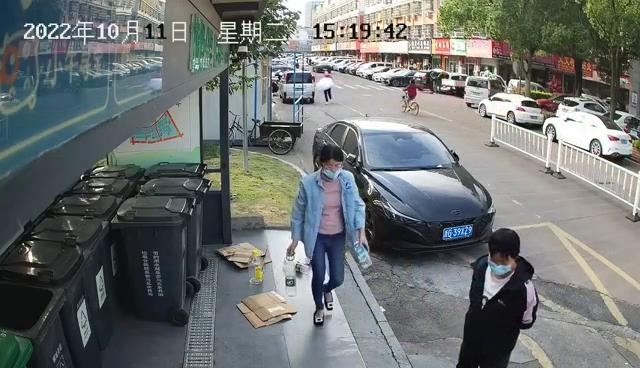person: (453, 226, 540, 368)
suliaozhipin: (283, 253, 299, 297), (248, 247, 265, 285)
worker: (286, 140, 370, 326)
zhizhipin: (235, 287, 297, 329), (214, 239, 273, 270), (351, 241, 373, 269)
